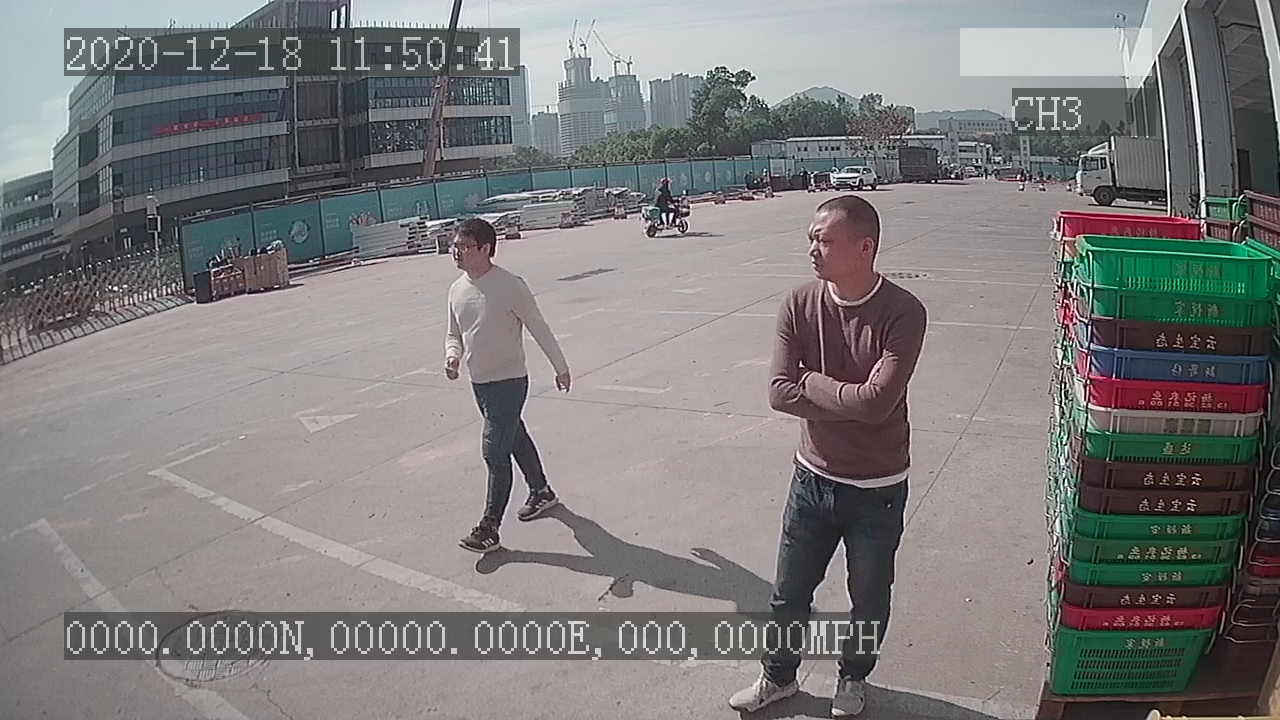person: (436, 215, 574, 556)
